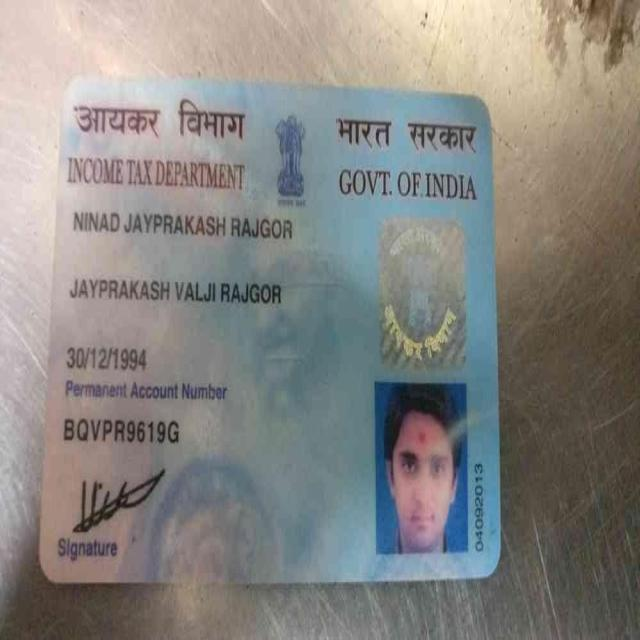pan_card: (49, 85, 493, 571)
